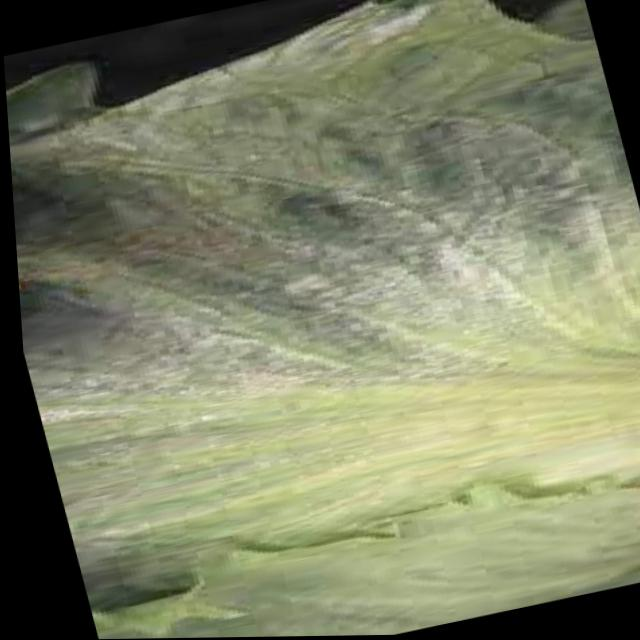Bad: (10, 8, 640, 639)
